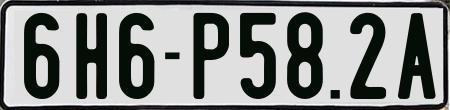2: (349, 10, 390, 100)
5: (240, 11, 281, 103)
6: (21, 13, 58, 101), (118, 10, 153, 97)
8: (287, 11, 327, 98)
A: (397, 12, 434, 98)
H: (75, 10, 106, 99)
P: (193, 11, 235, 101)
